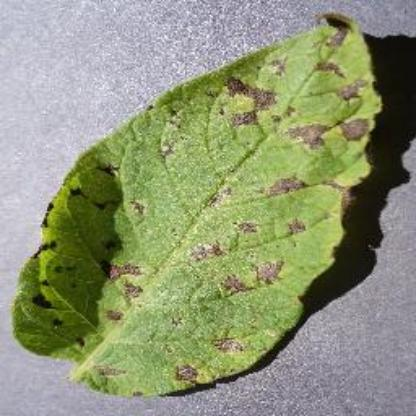Early-Blight: (11, 4, 387, 398)
